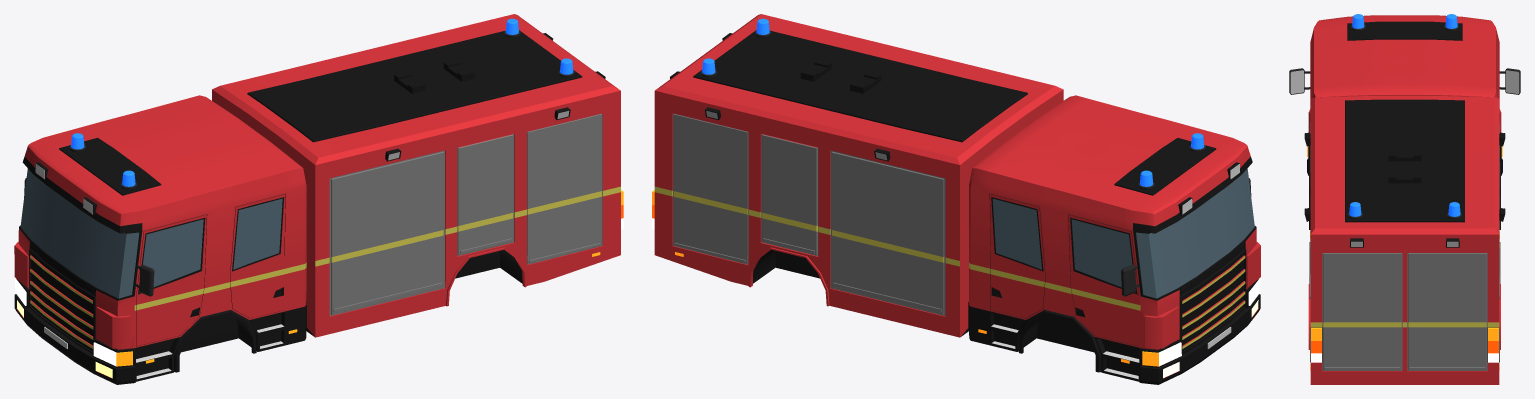
Rendered from FireTruckTest.glb.
3 renders of one model, left to right at view 1: azimuth 30°, elevation 25°; view 2: azimuth 150°, elevation 25°; view 3: azimuth 270°, elevation 25°, orthographic. The views are drawn at different scales.
Visible parts, largest first — view 1: FireTruckLow; view 2: FireTruckLow; view 3: FireTruckLow.
Boxes of the visible parts, x1,y1,x2,y2 form: FireTruckLow: [14, 14, 623, 384]; FireTruckLow: [652, 14, 1260, 384]; FireTruckLow: [1289, 14, 1520, 384].
Bounding box in the file's own units: 7.28 × 2.57 × 3.07.
